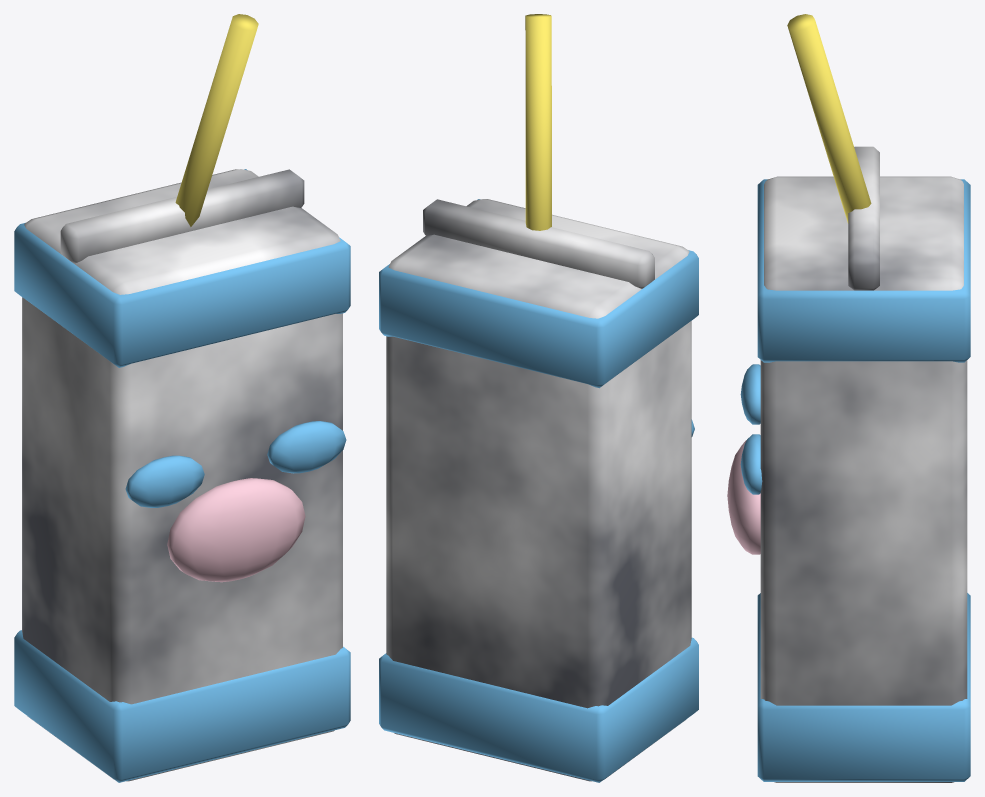
The model's file is susu_kotak.fbx.
3 renders of one model, left to right at view 1: azimuth 30°, elevation 25°; view 2: azimuth 150°, elevation 25°; view 3: azimuth 270°, elevation 25°, orthographic. The views are drawn at different scales.
Parts seen in each view (by area): view 1: susu_kotak; view 2: susu_kotak; view 3: susu_kotak.
Part boxes in pixels (<box>): susu_kotak: <box>14,14,350,782</box>; susu_kotak: <box>379,14,698,782</box>; susu_kotak: <box>727,14,970,782</box>.
Bounding box in the file's own units: 8.7 × 25.29 × 7.65.
Materials: 1 (1 with a texture image).
